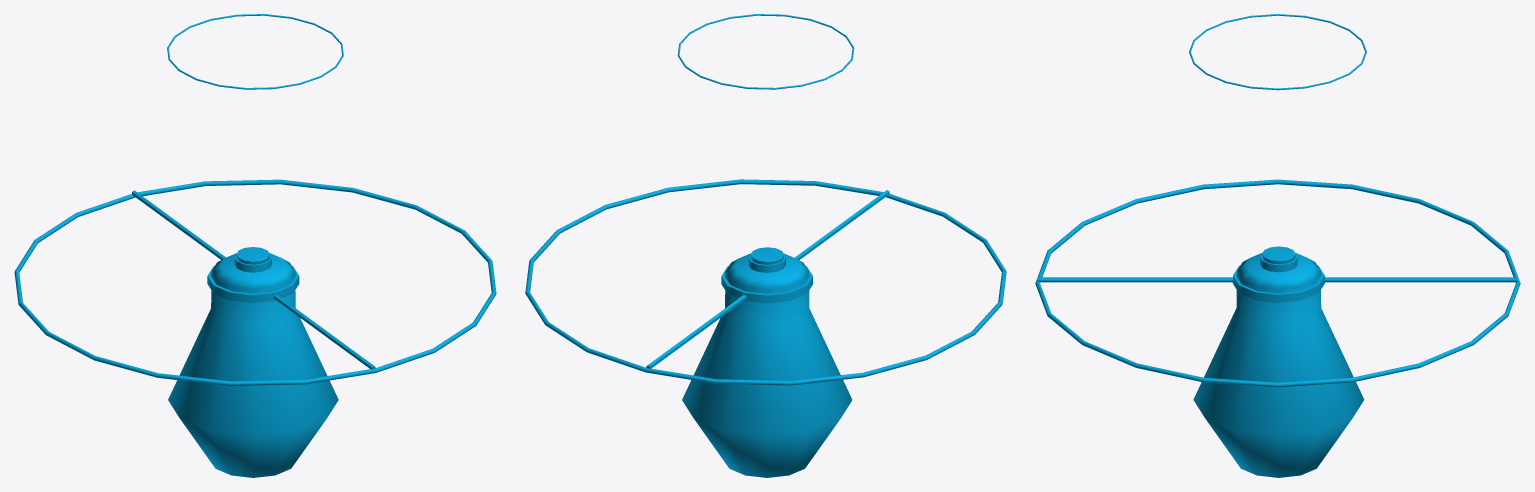
The model's file is Lamp_02.fbx.
3 renders of one model, left to right at view 1: azimuth 30°, elevation 25°; view 2: azimuth 150°, elevation 25°; view 3: azimuth 270°, elevation 25°, orthographic.
Visible parts, largest first — view 1: Lamp_02; view 2: Lamp_02; view 3: Lamp_02.
Boxes of the visible parts, x1,y1,x2,y2 form: Lamp_02: (14, 14, 496, 477); Lamp_02: (525, 14, 1006, 477); Lamp_02: (1035, 14, 1520, 477).
Size of the model in its own units: 53.22 by 49.48 by 53.22.
